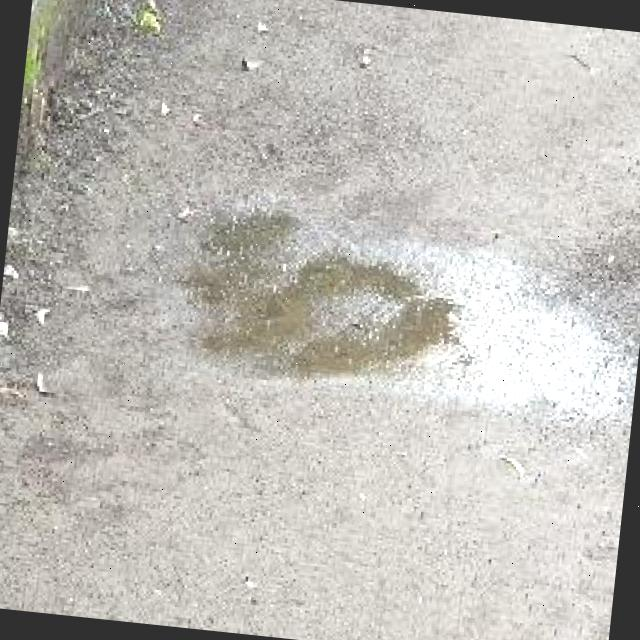stagnation: (178, 185, 486, 405)
